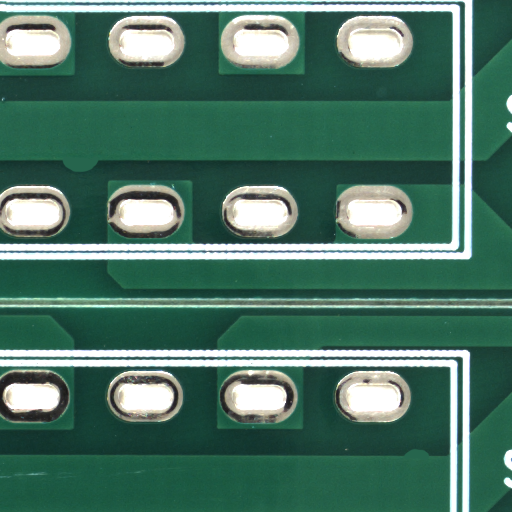Spur: (78, 164, 120, 179), (416, 452, 444, 461)
